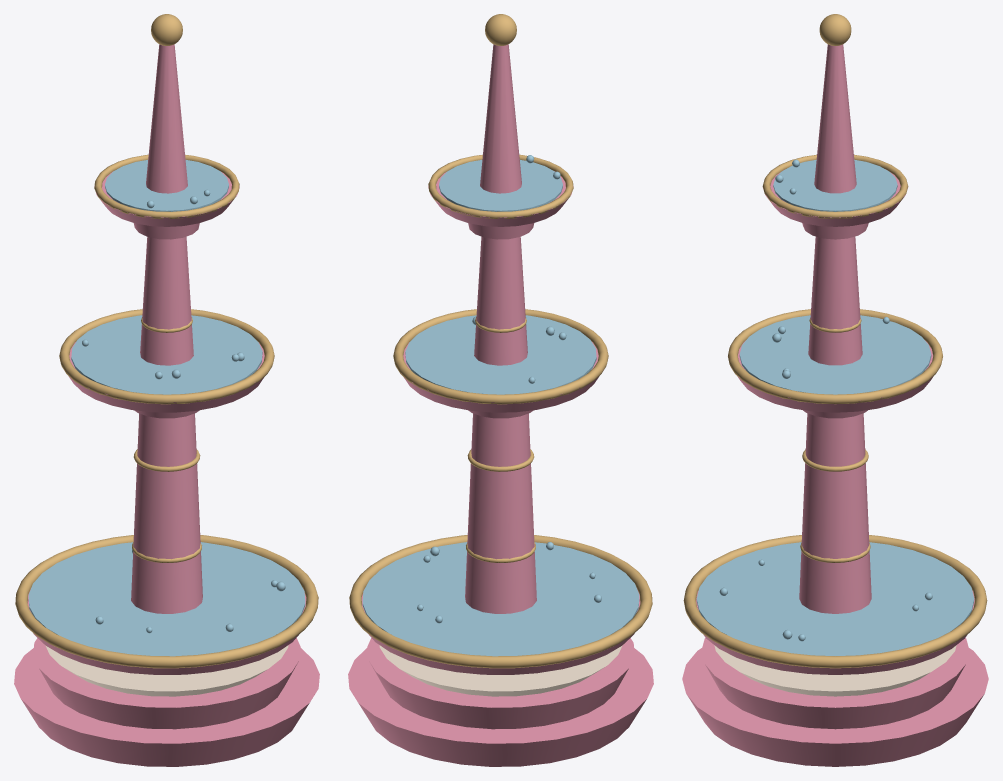
Rendered from fountain.glb.
3 views of the same model, side by side, from view 1: azimuth 30°, elevation 25°; view 2: azimuth 150°, elevation 25°; view 3: azimuth 270°, elevation 25° (orthographic).
Parts seen in each view (by area): view 1: fountain; view 2: fountain; view 3: fountain.
Part boxes in pixels (bbox=[...]): fountain: bbox=[14, 14, 319, 766]; fountain: bbox=[348, 14, 653, 766]; fountain: bbox=[682, 14, 988, 766].
Size of the model in its own units: 8 by 20 by 8.
